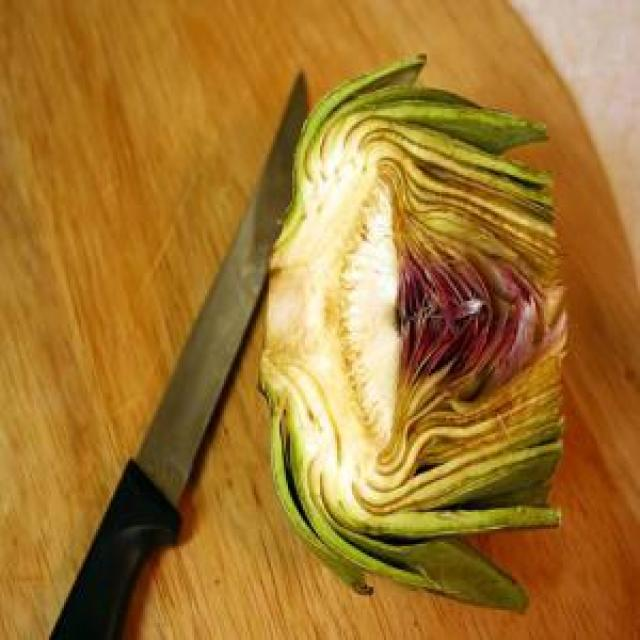knife: (44, 70, 314, 638)
